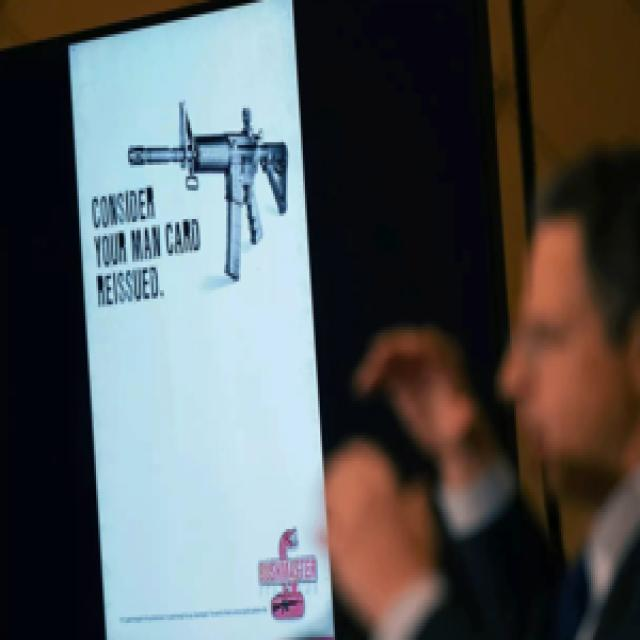Weapon: (124, 103, 290, 284)
